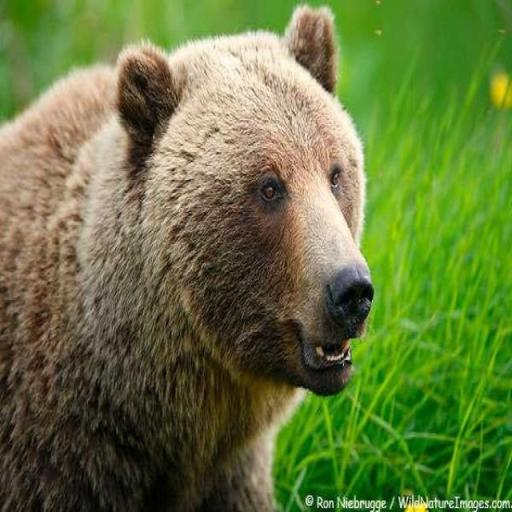Bear: (0, 3, 374, 511)
